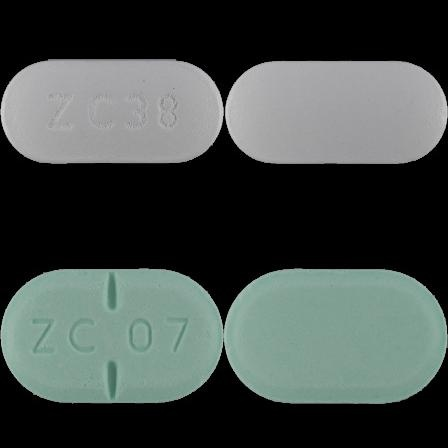61919-132: (0, 0, 224, 224)
